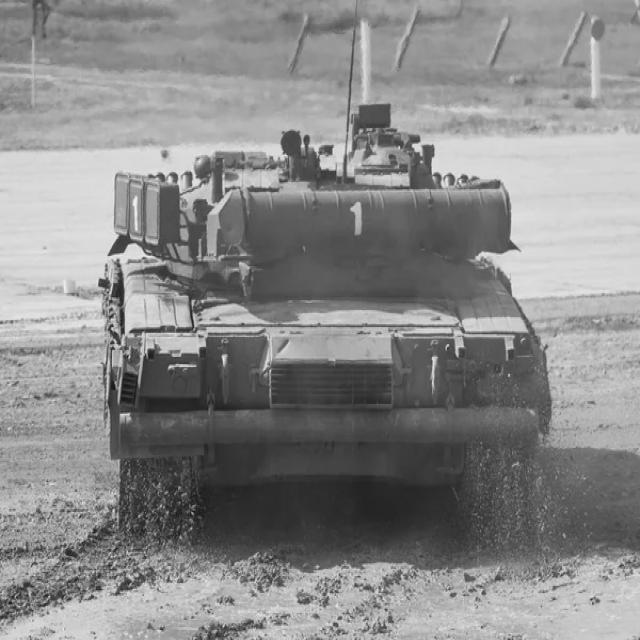Tank: (99, 82, 552, 542)
